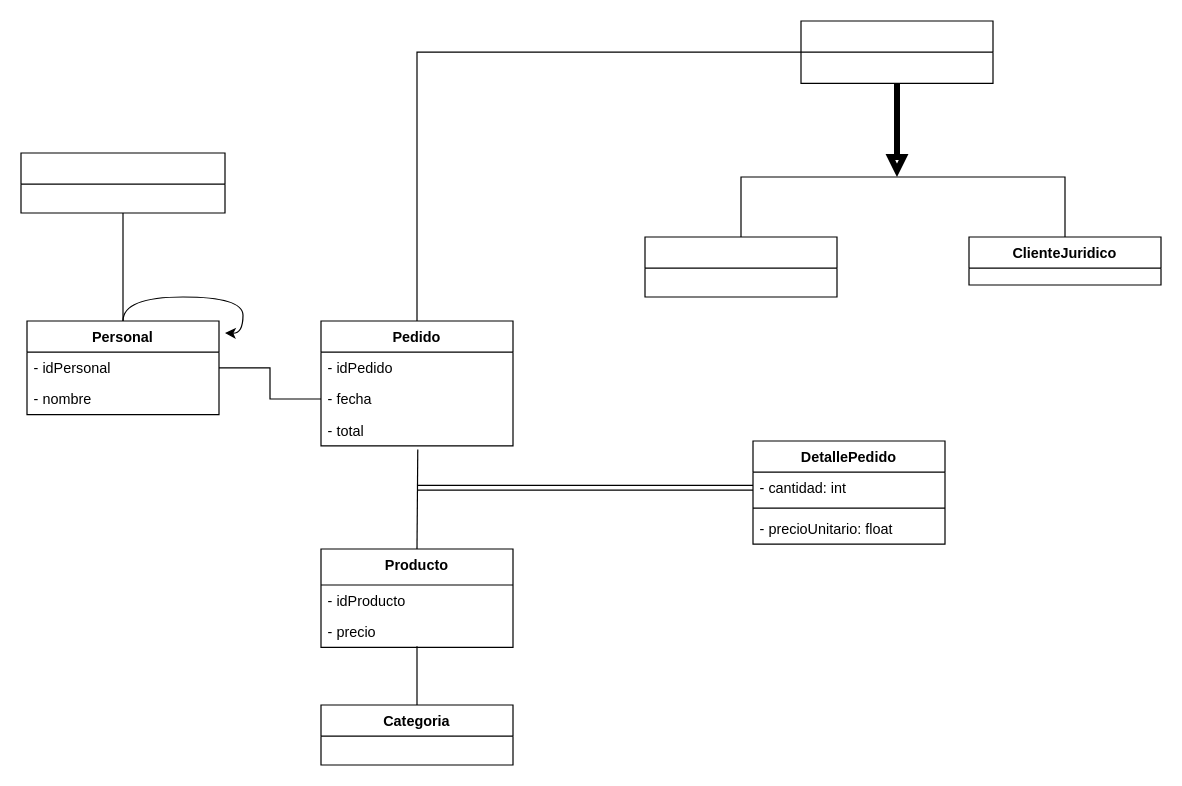
This 1182x786 diagram has some shape labels left out. The centre of each missing label's shape, as x and y in pixels:
Cliente: [896,51]
ClienteNatural: [740,266]
Puesto: [122,182]
